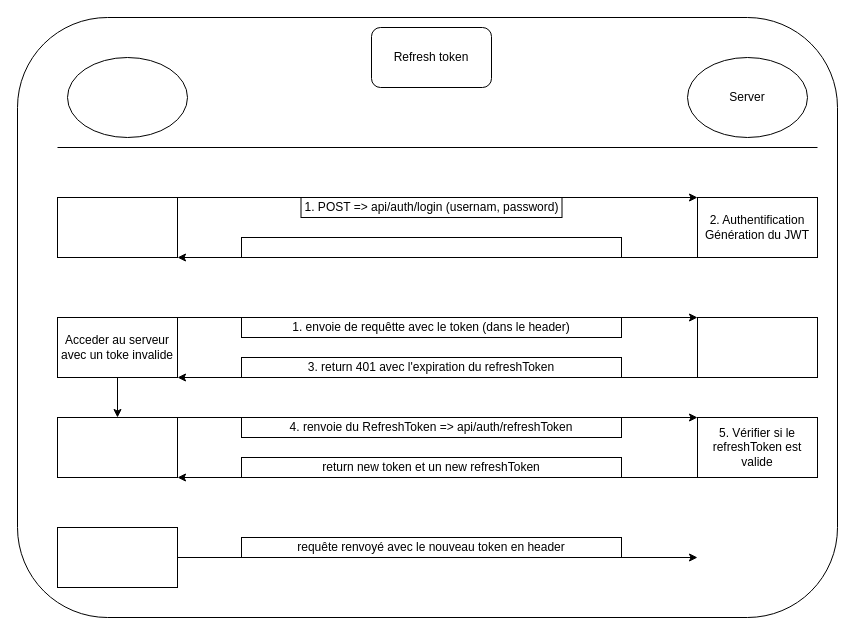
Some shapes in this 855 by 635 pixel diagram are drawn without their labels. The shapes that lost their labels are listed below. From the top down, each one's centre as x and y in pixels, then its label:
[127,97]: Angular
[117,227]: connexion utilisateur
[431,247]: 3. return => token, refreshToken, infosUtilisateur, autorisations
[757,347]: 2. Détection de la validité du token
[117,447]: Renvoie du refreshToken (prolongement de la session utilisateur)
[117,557]: acceder à mes ressource via mon noveau token
